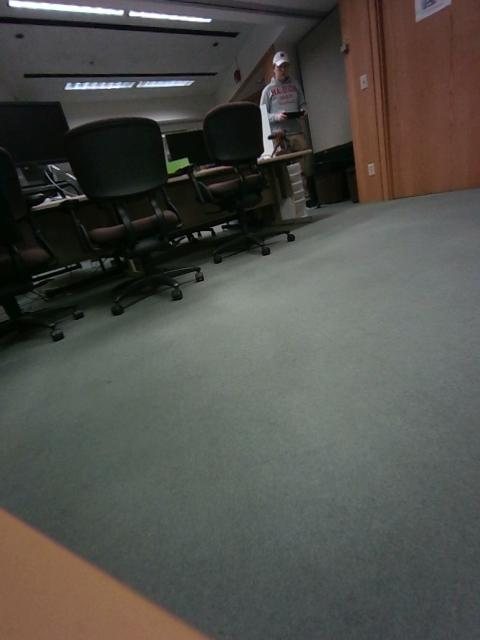block: (241, 348, 294, 428)
